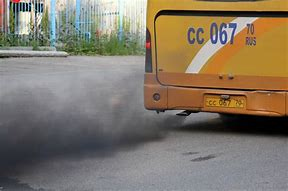smoke: (1, 110, 176, 172)
